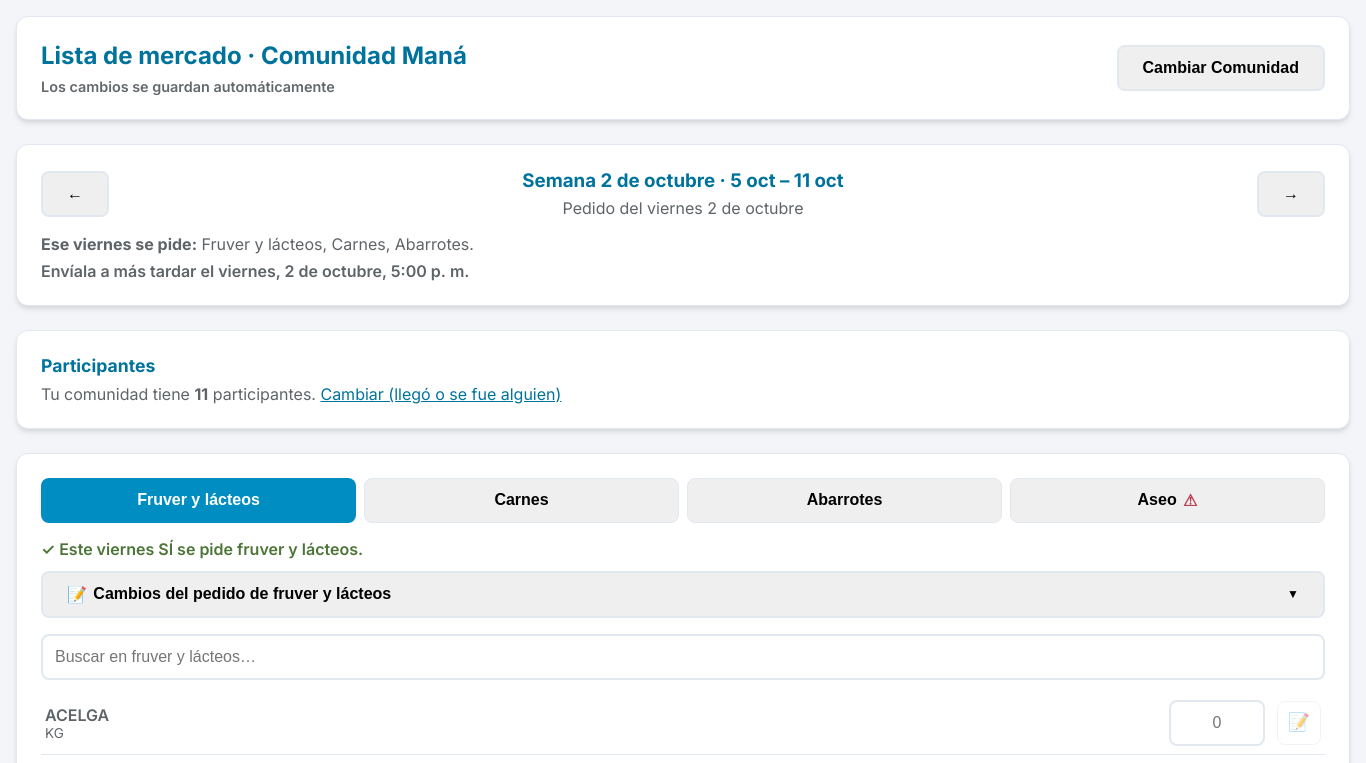
it: lista de mercado: escribir y guardar › si el guardado falla avisa con 'Reintentar' y reenvía al pulsarlo
The width and height of the screenshot is (1366, 763).
Type "1" into the field labelled "ACELGA KG" at (1217, 723), box top-left (1169, 700), bottom-right (1265, 746)
Wait 700 ms
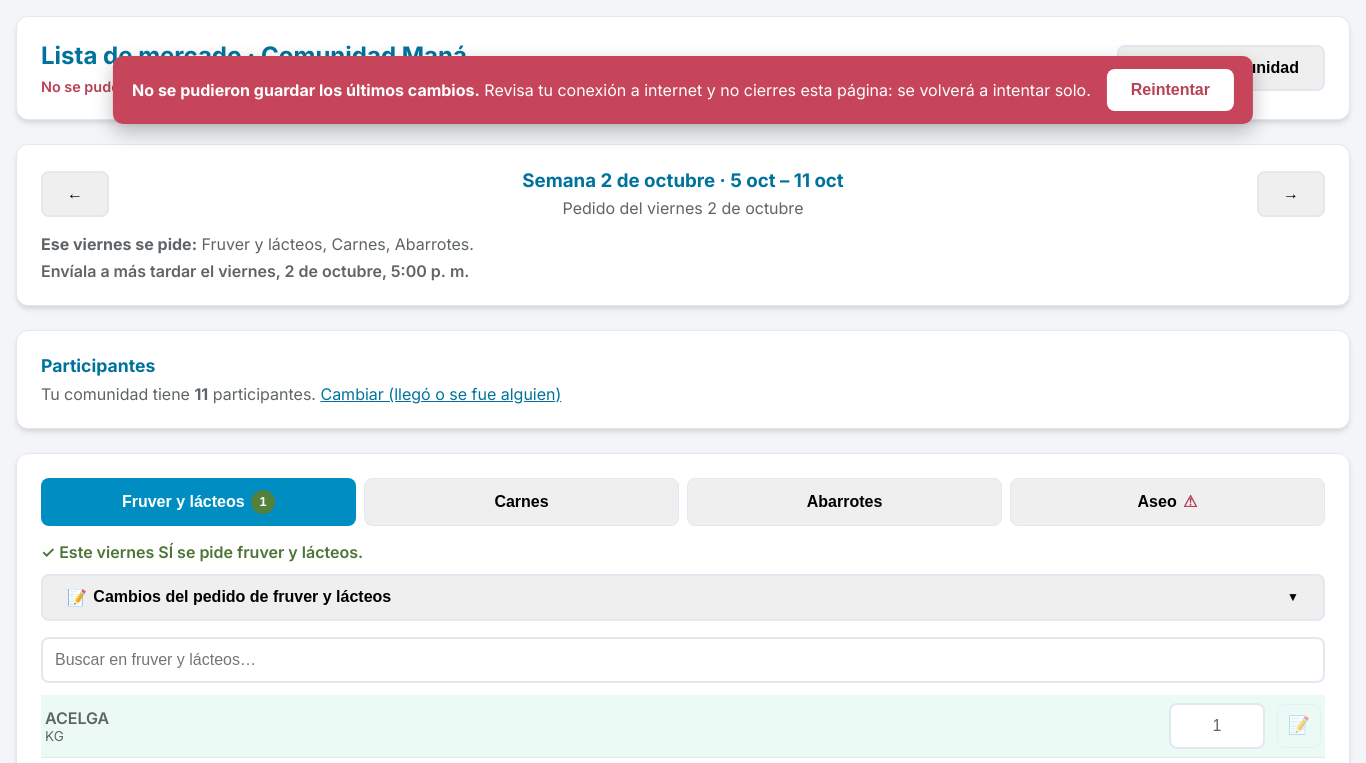
Check: the text "No se pudo guardar" is shown, box top-left (41, 78), bottom-right (178, 95)
Check: the text "No se pudieron guardar los últimos cambios." is shown, box top-left (132, 80), bottom-right (480, 100)
Click the button "Reintentar" at (1170, 90), box top-left (1107, 69), bottom-right (1234, 111)
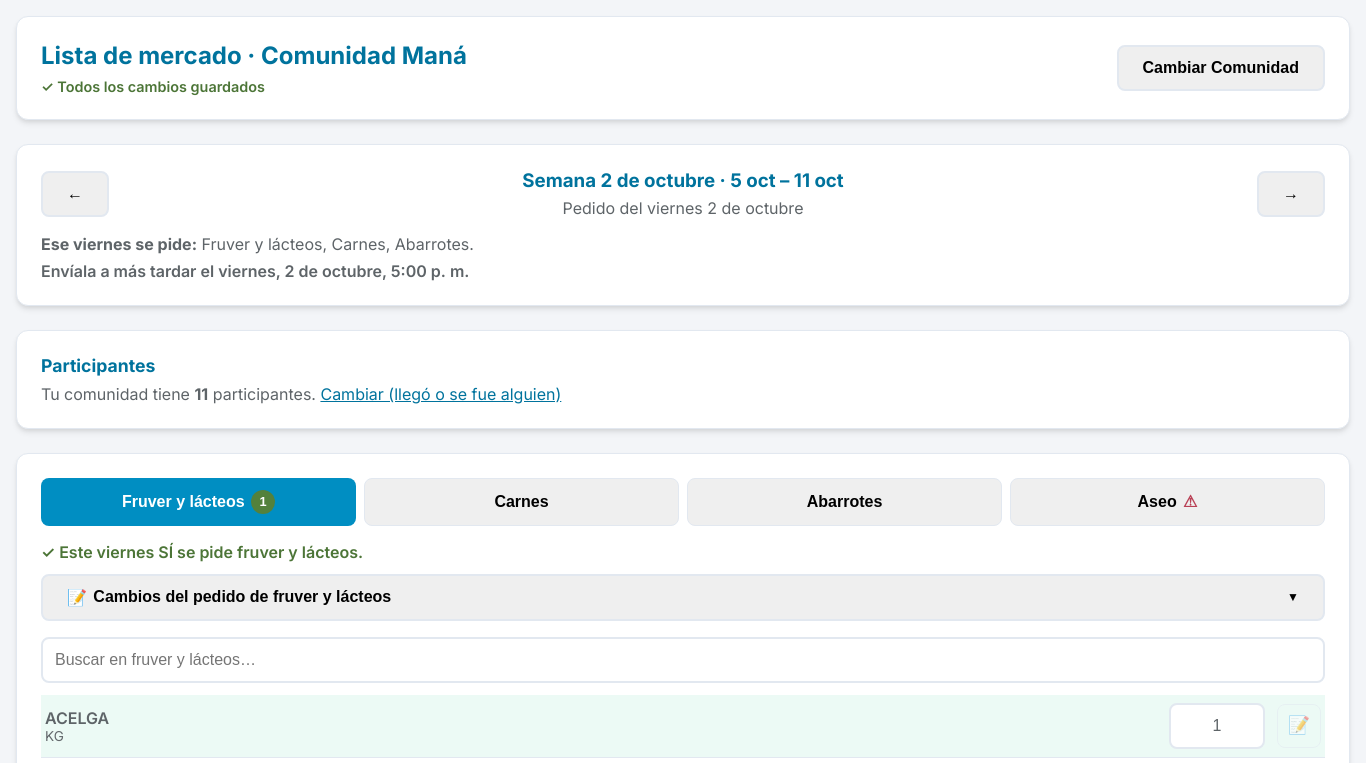
Check: the text "✓ Todos los cambios guardados" is shown, box top-left (41, 78), bottom-right (265, 95)
